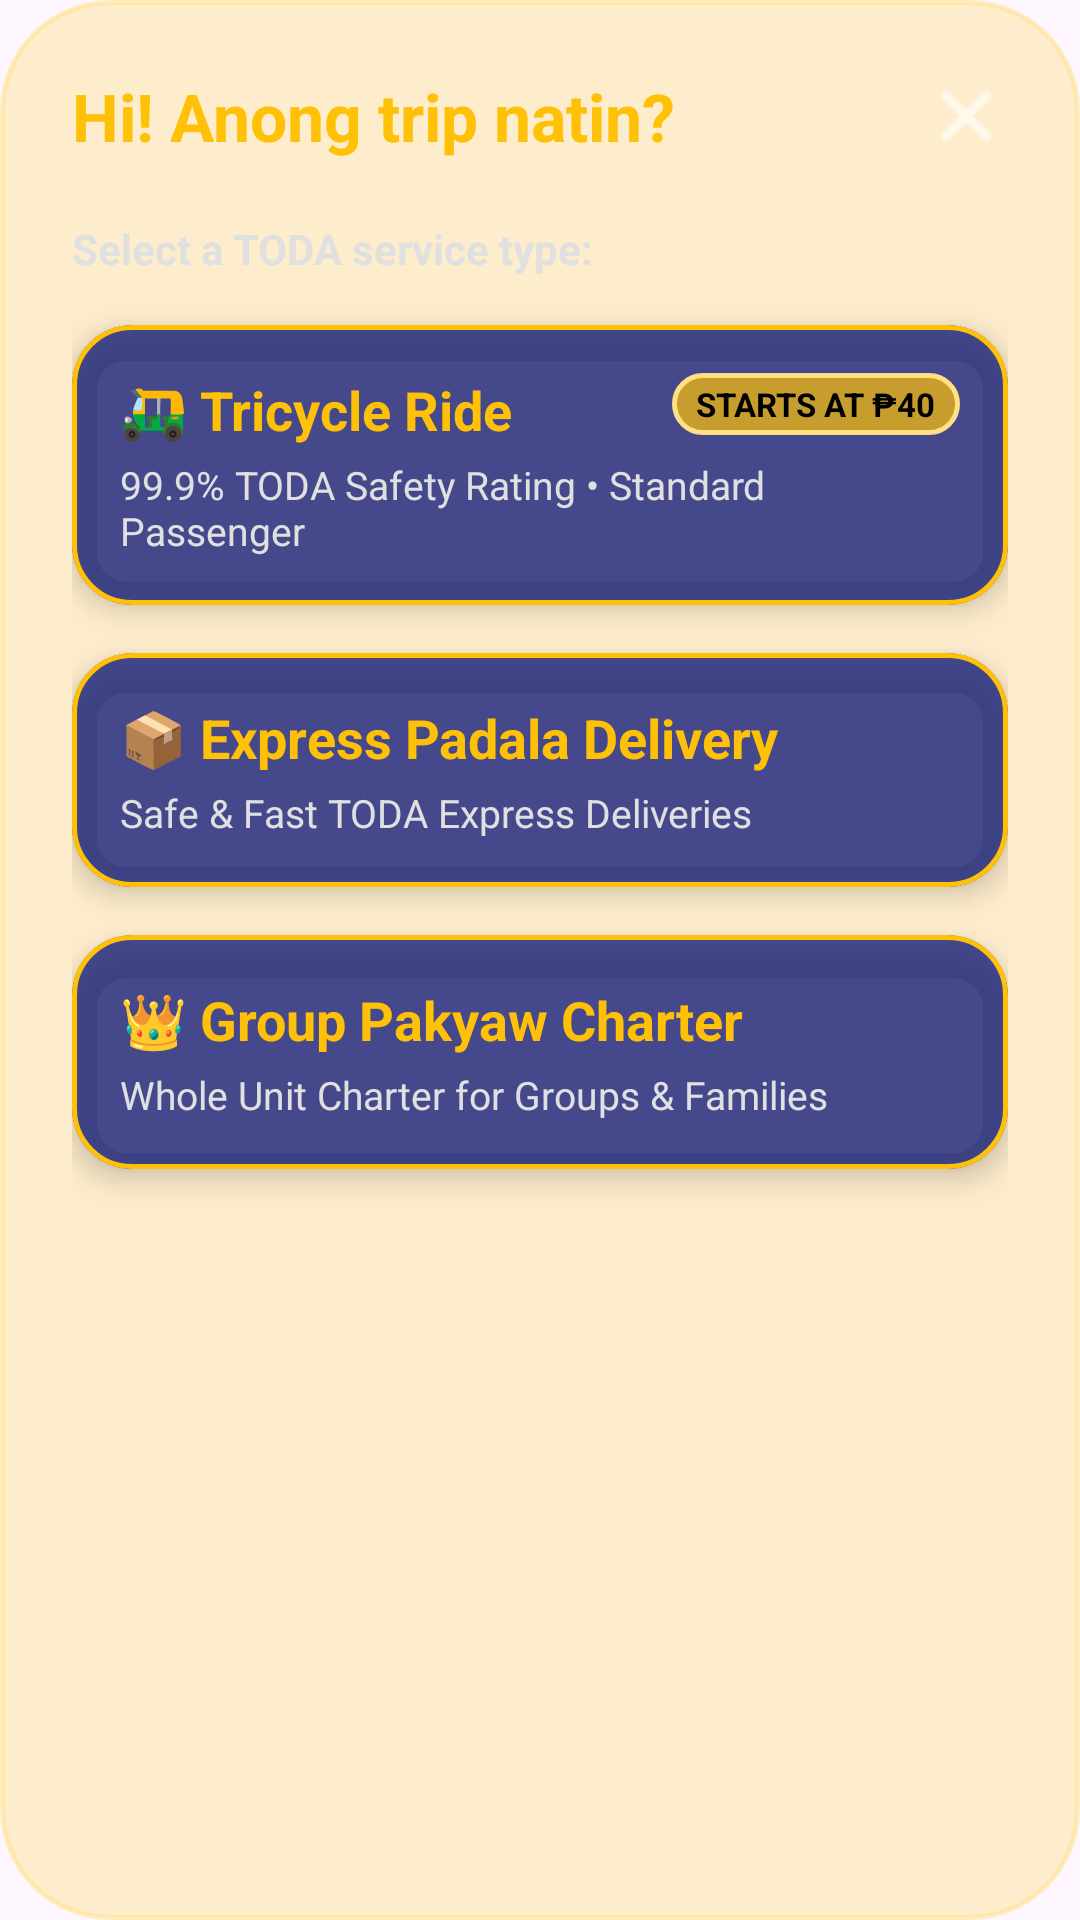

Locate icon controls on the screen. Image size 1080 × 1920, boxes as (x1, y1, x2, y2).
Close: (942, 92, 990, 140)
